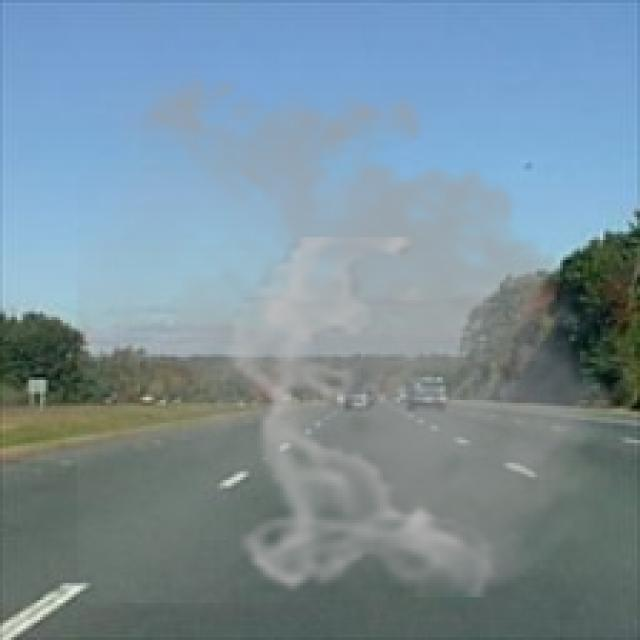Smoke: (77, 60, 637, 606)
